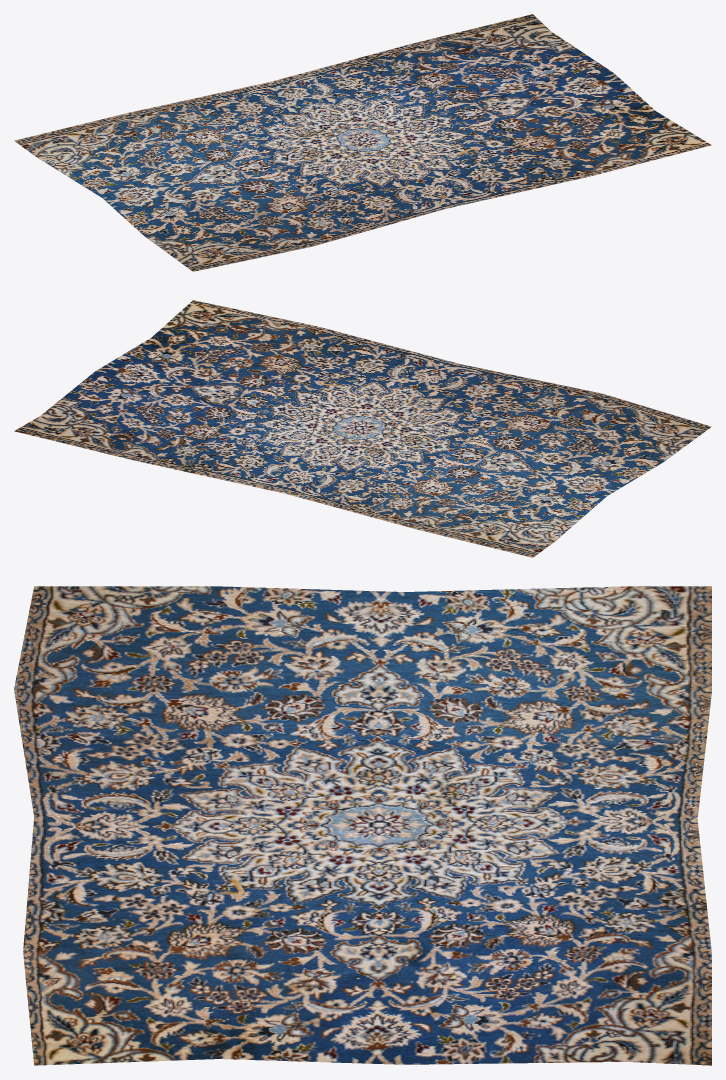
Rendered from Rug.dae.
3 views of the same model, one above another, from view 1: azimuth 30°, elevation 25°; view 2: azimuth 150°, elevation 25°; view 3: azimuth 270°, elevation 25° (orthographic). The views are drawn at different scales.
Visible parts, largest first — view 1: meshU3D; view 2: meshU3D; view 3: meshU3D.
Boxes of the visible parts, left/top/right/bottom form: meshU3D: left=14, top=14, right=711, bottom=271; meshU3D: left=14, top=300, right=711, bottom=557; meshU3D: left=14, top=586, right=711, bottom=1065.
Size of the model in its own units: 65.61 by 0.2049 by 40.38.
